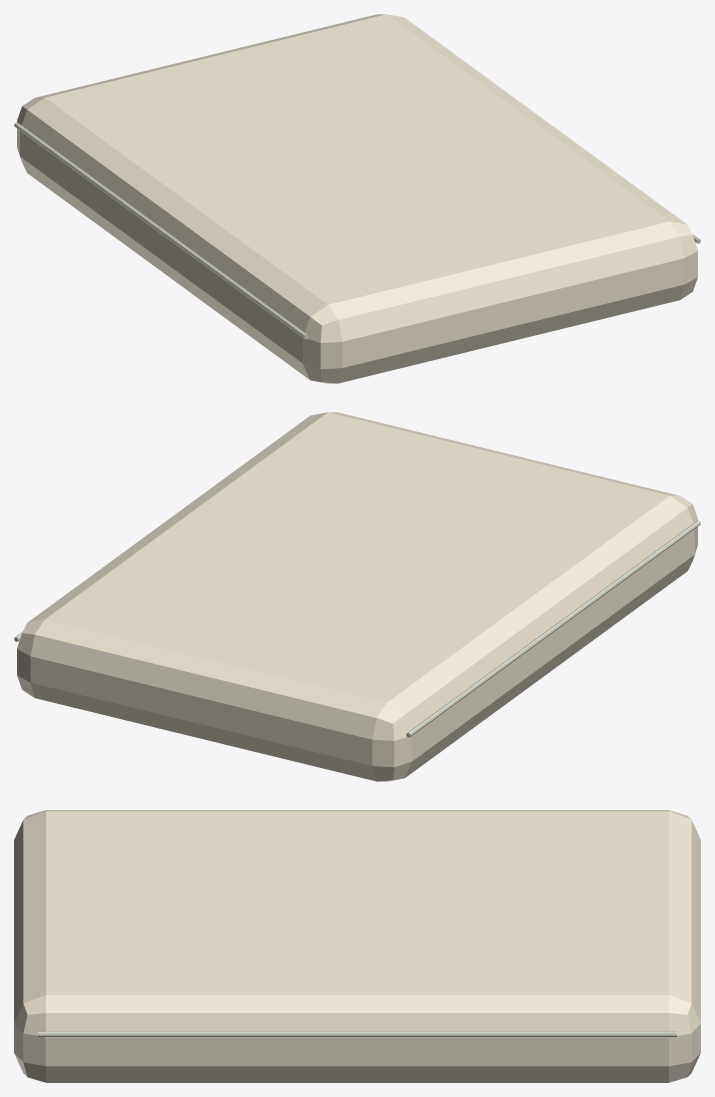
Rendered from mattress.glb.
3 renders of one model, top to bottom at view 1: azimuth 30°, elevation 25°; view 2: azimuth 150°, elevation 25°; view 3: azimuth 270°, elevation 25°, orthographic. The views are drawn at different scales.
Visible parts, largest first — view 1: mattress_Mesh; view 2: mattress_Mesh; view 3: mattress_Mesh.
Boxes of the visible parts, left/top/right/bottom form: mattress_Mesh: left=14, top=14, right=700, bottom=383; mattress_Mesh: left=14, top=412, right=700, bottom=781; mattress_Mesh: left=14, top=810, right=700, bottom=1082.
Bounding box in the file's own units: 1.58 × 0.3 × 2.15.
